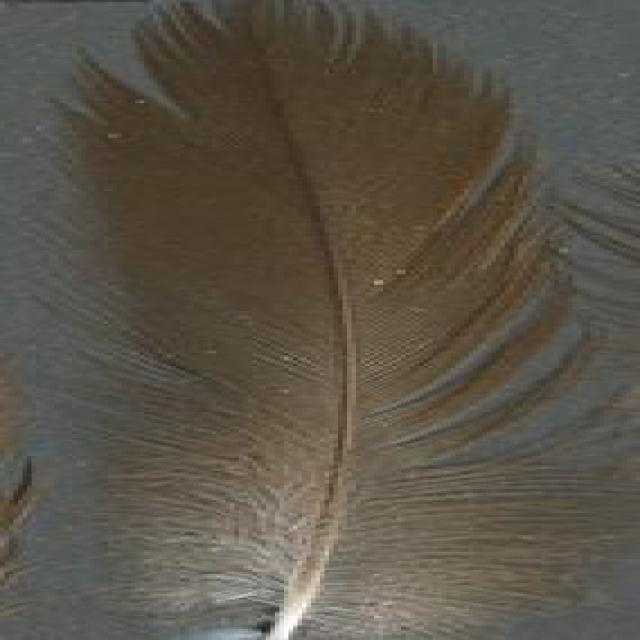feather: (45, 0, 624, 640)
